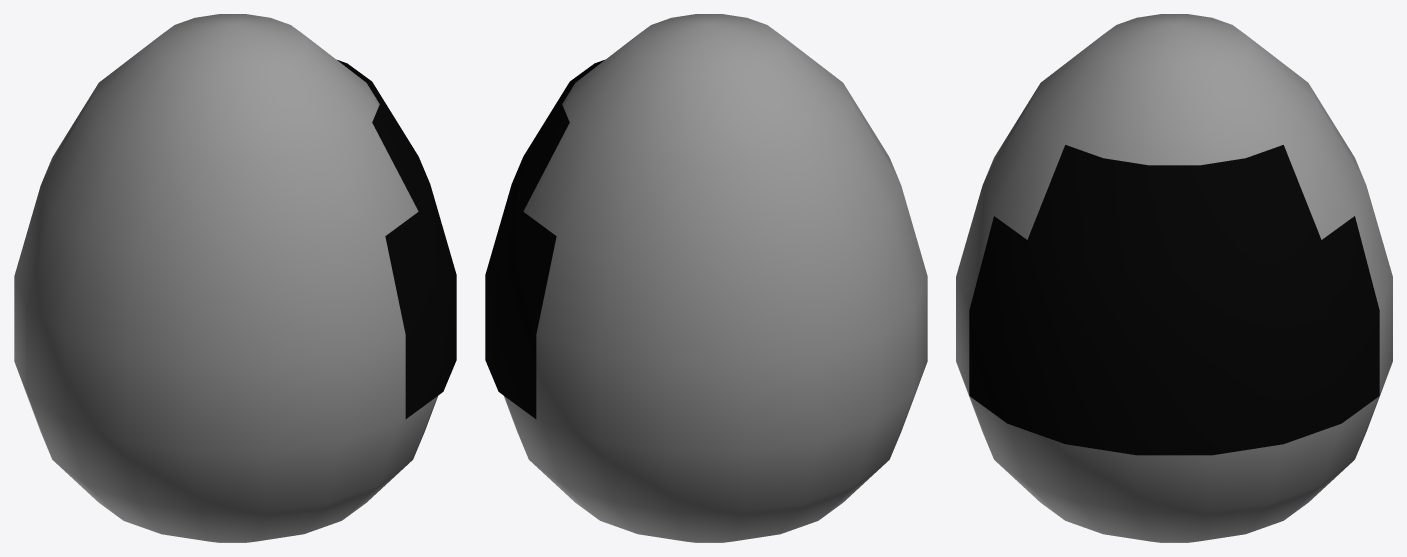
The model's file is Egg.FBX.
The picture shows the model from 3 angles, left to right: view 1: azimuth 30°, elevation 25°; view 2: azimuth 150°, elevation 25°; view 3: azimuth 270°, elevation 25°; orthographic projection.
Parts seen in each view (by area): view 1: Sphere001, Object001; view 2: Sphere001, Object001; view 3: Object001, Sphere001.
Boxes of the visible parts, x1=… form: Sphere001: x1=14, y1=14, x2=437, y2=542; Object001: x1=337, y1=60, x2=456, y2=418; Sphere001: x1=504, y1=14, x2=927, y2=542; Object001: x1=485, y1=60, x2=604, y2=418; Object001: x1=969, y1=145, x2=1379, y2=455; Sphere001: x1=956, y1=14, x2=1392, y2=542.
Size of the model in its own units: 83.35 by 105 by 83.39.
